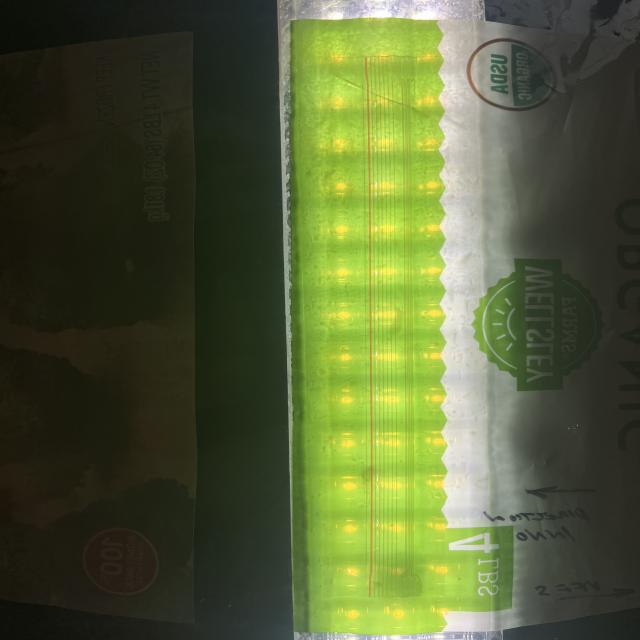zip_l: (318, 54, 446, 599)
